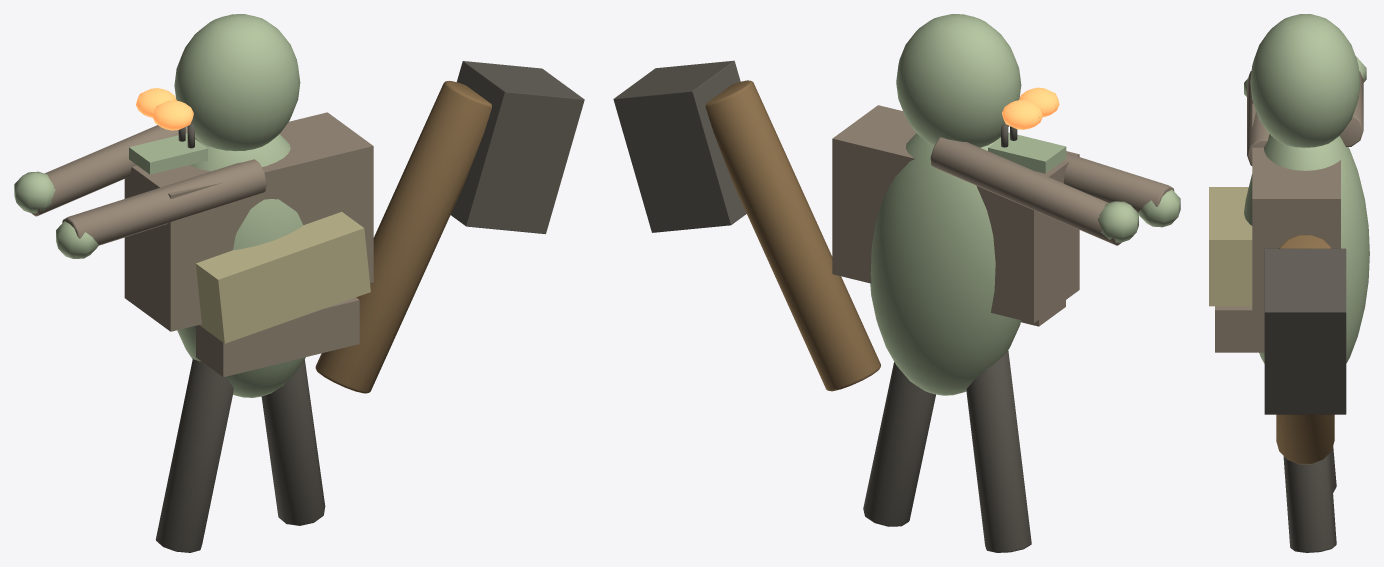
Rendered from gargantuar.glb.
3 views of the same model, side by side, from view 1: azimuth 30°, elevation 25°; view 2: azimuth 150°, elevation 25°; view 3: azimuth 270°, elevation 25° (orthographic). The views are drawn at different scales.
Visible parts, largest first — view 1: chest, club_shaft, club_head, armor, head, leg, arm.001, leg.001, strap, torso, arm, mouth_band (+4 smaller); view 2: torso, club_shaft, chest, club_head, head, leg, leg.001, arm, arm.001, mouth_band, hand, hand.001 (+2 smaller); view 3: club_head, head, chest, torso, armor, leg.001, club_shaft, strap, arm.001, arm.
Part boxes in pixels (box(x1,y1,x2,y2)): chest: box(124, 112, 373, 331); club_shaft: box(315, 80, 491, 393); club_head: box(450, 61, 584, 234); armor: box(196, 212, 370, 343); head: box(174, 14, 300, 151); leg: box(155, 359, 233, 552); arm.001: box(62, 159, 266, 245); leg.001: box(261, 359, 325, 525); strap: box(196, 297, 359, 377); torso: box(177, 134, 305, 397); arm: box(31, 125, 195, 216); mouth_band: box(129, 133, 207, 174); torso: box(870, 133, 1021, 395); club_shaft: box(705, 80, 880, 391); chest: box(832, 105, 1079, 323); club_head: box(613, 60, 746, 232); head: box(896, 14, 1021, 147); leg: box(966, 350, 1031, 552); leg.001: box(863, 362, 935, 526); arm: box(930, 137, 1121, 245); arm.001: box(1000, 137, 1174, 212); mouth_band: box(988, 132, 1066, 173); hand: box(1098, 201, 1138, 242); hand.001: box(1138, 189, 1180, 227); club_head: box(1264, 248, 1346, 414); head: box(1250, 14, 1360, 147); chest: box(1252, 103, 1340, 330); torso: box(1244, 134, 1369, 363); armor: box(1209, 187, 1252, 306); leg.001: box(1283, 453, 1336, 552); club_shaft: box(1276, 235, 1334, 464); strap: box(1215, 306, 1264, 352); arm.001: box(1247, 71, 1269, 165); arm: box(1339, 71, 1363, 146).
Bounding box in the file's own units: 2.01 × 1.89 × 0.5511.
